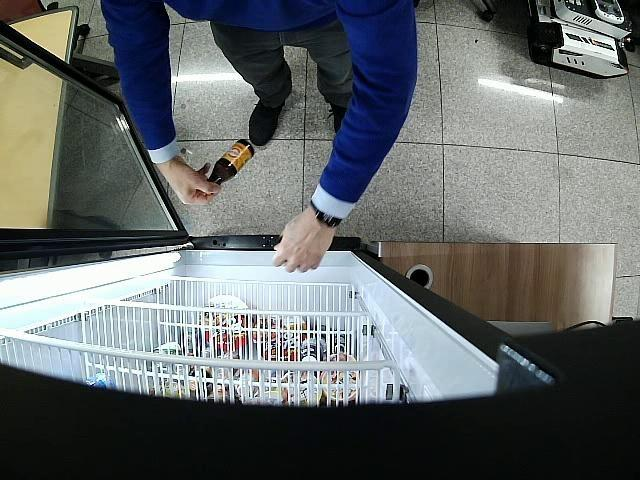17_vita500: (205, 138, 258, 188)
